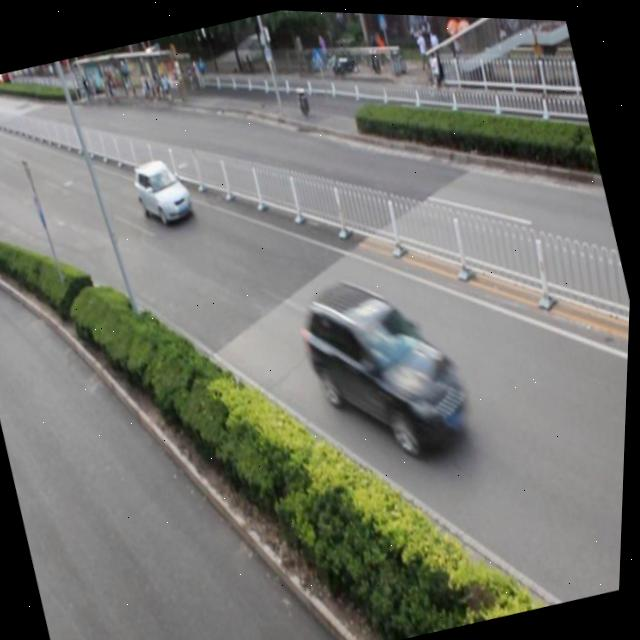car: (290, 251, 488, 477), (129, 151, 200, 232)
